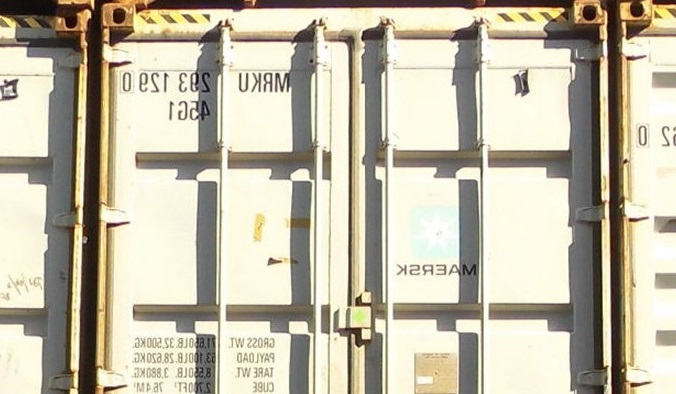container_door: (99, 3, 614, 394)
